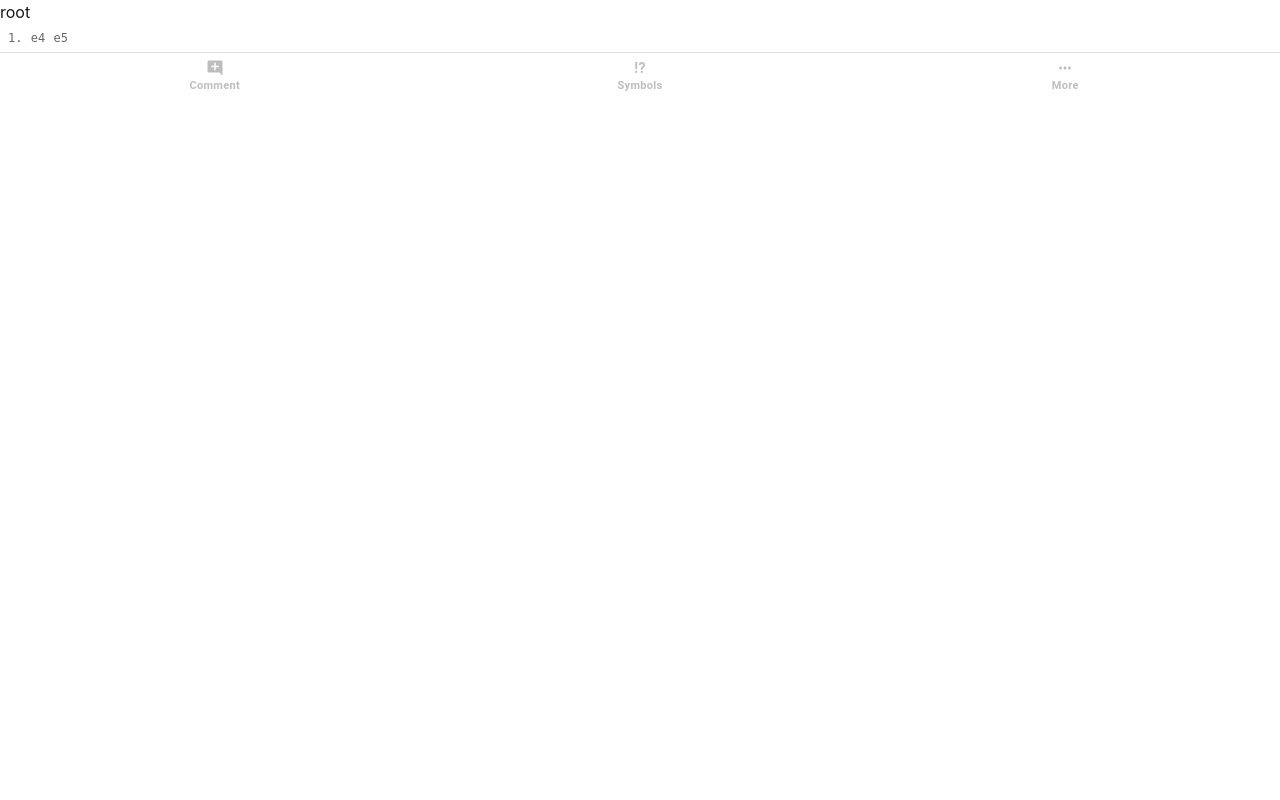
it: Mobile action sheet › long-press opens the sheet for that move
Press the mouse on the text "e4" at x=38, y=38, box [31,31,45,45]
Wait 450 ms
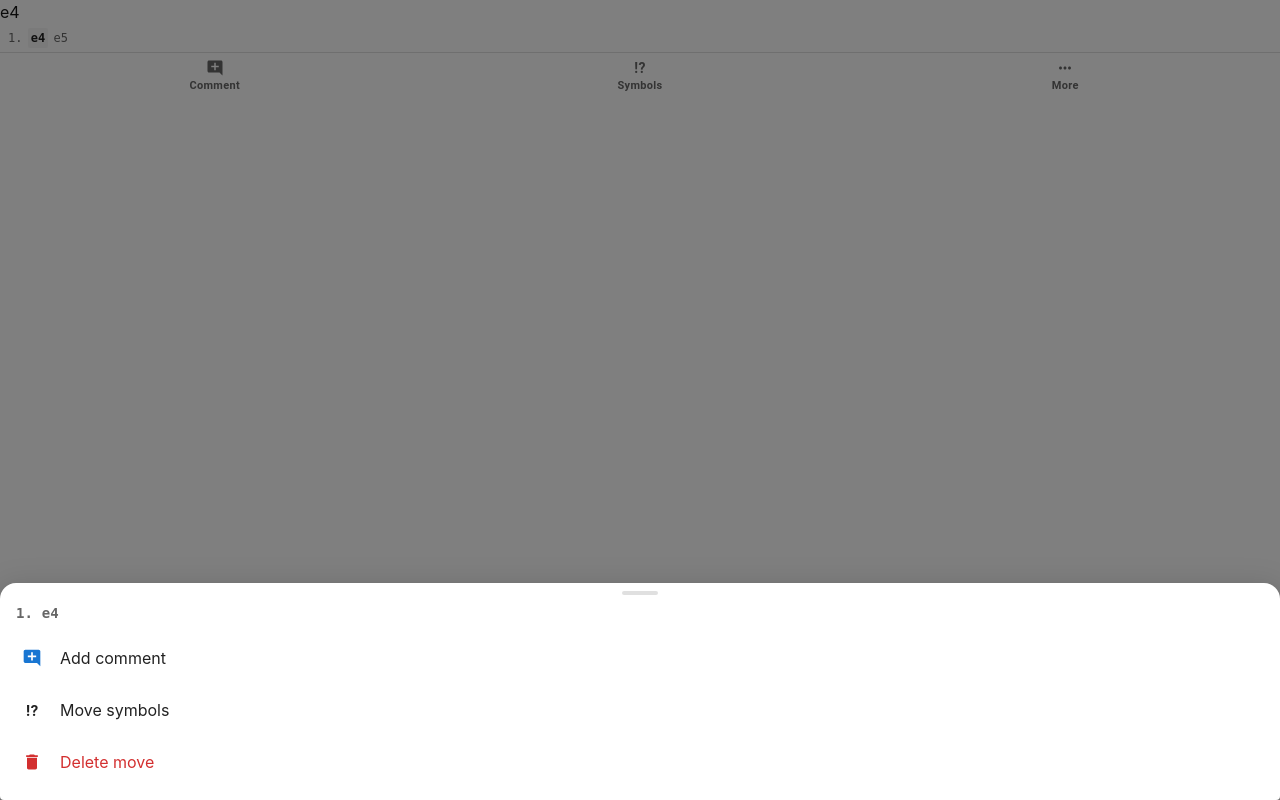
Expected: the element with test id "move-action-sheet" is shown, [0,583,1279,788]
Expected: the text with test id "selected" reads "e4", [0,2,20,22]
